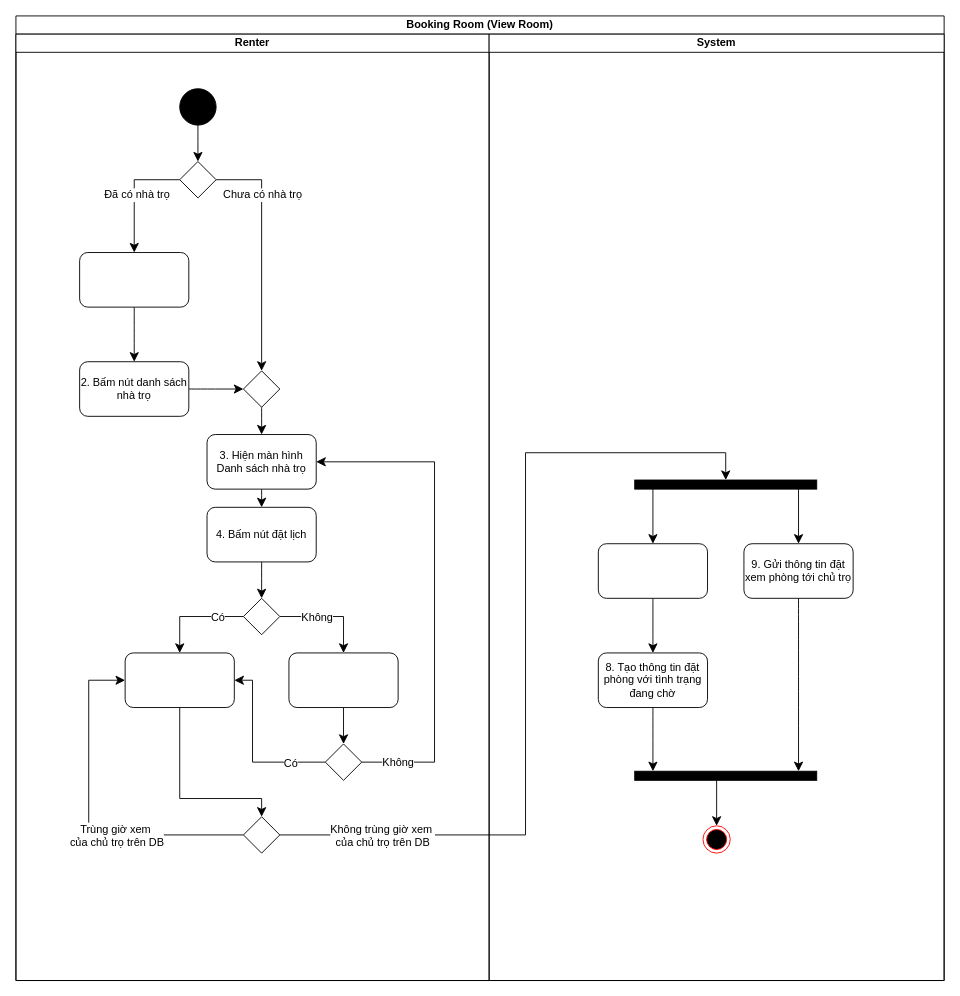
This 960x996 diagram has some shape labels left out. Here are the shapes that lost their labels. From the top down, the centre of each, then its label:
(134,279): 1. Hiện màn hình Trang Chủ
(652,570): 7. Lưu thông tin đặt xem phòng
(179,680): 5. Chọn lịch xem phòng
(343,680): 6. Xem chi tiết nhà trọ
